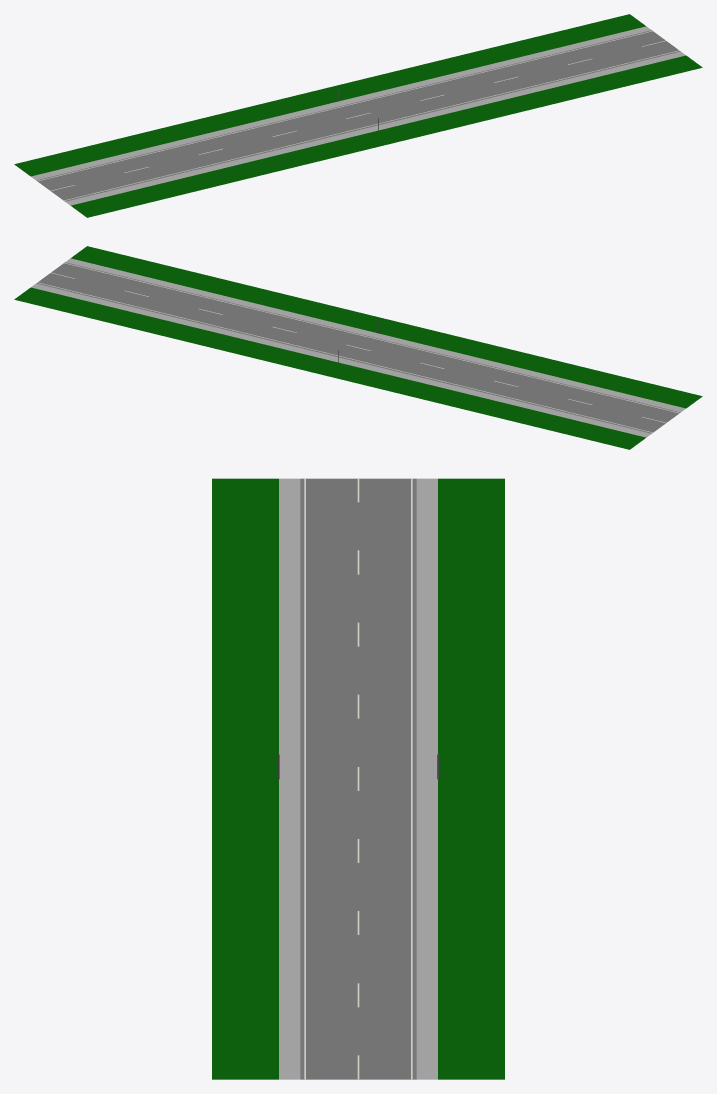
Rendered from externalreference_example.gltf.
3 views of the same model, one above another, from view 1: azimuth 30°, elevation 25°; view 2: azimuth 150°, elevation 25°; view 3: azimuth 270°, elevation 25° (orthographic). The views are drawn at different scales.
Parts seen in each view (by area): view 1: Terrain_Left, Terrain_Right, Lane_Left, Lane_Right, Sidewalk_Left, Sidewalk_Right, Curb_Right, Curb_Left, Road_Mark_Solid_Left, Road_Mark_Solid_Right; view 2: Terrain_Left, Terrain_Right, Lane_Right, Lane_Left, Sidewalk_Right, Sidewalk_Left, Curb_Left, Curb_Right, Road_Mark_Solid_Right, Road_Mark_Solid_Left; view 3: Terrain_Left, Terrain_Right, Lane_Left, Lane_Right, Sidewalk_Left, Sidewalk_Right, Curb_Left, Curb_Right, Road_Mark_Solid_Left, Road_Mark_Solid_Right.
Boxes of the visible parts, x1,y1,x2,y2 form: Terrain_Left: (14, 14, 645, 176); Terrain_Right: (71, 55, 702, 217); Lane_Left: (37, 31, 665, 190); Lane_Right: (51, 41, 678, 200); Sidewalk_Left: (31, 26, 651, 180); Sidewalk_Right: (65, 51, 685, 205); Curb_Right: (64, 50, 680, 201); Curb_Left: (36, 30, 652, 180); Road_Mark_Solid_Left: (37, 31, 652, 181); Road_Mark_Solid_Right: (64, 50, 679, 200); Terrain_Left: (14, 287, 645, 449); Terrain_Right: (71, 246, 702, 408); Lane_Right: (51, 263, 679, 422); Lane_Left: (38, 273, 665, 432); Sidewalk_Right: (65, 258, 685, 412); Sidewalk_Left: (31, 283, 651, 437); Curb_Left: (36, 282, 652, 433); Curb_Right: (64, 262, 680, 412); Road_Mark_Solid_Right: (64, 263, 679, 413); Road_Mark_Solid_Left: (37, 282, 652, 432); Terrain_Left: (438, 478, 504, 1079); Terrain_Right: (212, 478, 278, 1079); Lane_Left: (358, 478, 411, 1079); Lane_Right: (305, 478, 358, 1079); Sidewalk_Left: (416, 478, 437, 1079); Sidewalk_Right: (279, 478, 300, 1079); Curb_Left: (412, 478, 416, 1079); Curb_Right: (300, 478, 304, 1079); Road_Mark_Solid_Left: (411, 478, 412, 1079); Road_Mark_Solid_Right: (304, 478, 305, 1079).
Size of the model in its own units: 100 by 1.91 by 20.6.
